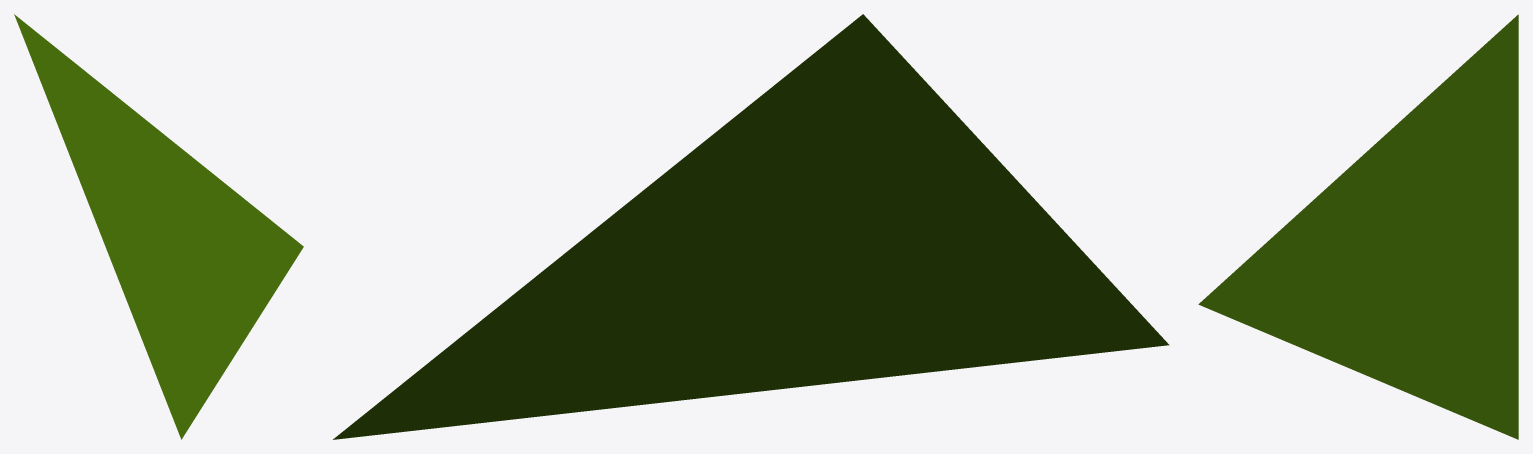
The model's file is hill-corner-0.glb.
The picture shows the model from 3 angles, left to right: view 1: azimuth 30°, elevation 25°; view 2: azimuth 150°, elevation 25°; view 3: azimuth 270°, elevation 25°; orthographic projection. The views are drawn at different scales.
Parts seen in each view (by area): view 1: mesh0; view 2: mesh0; view 3: mesh0.
Boxes of the visible parts, x1=… form: mesh0: x1=14, y1=14, x2=303, y2=439; mesh0: x1=333, y1=14, x2=1169, y2=439; mesh0: x1=1198, y1=14, x2=1518, y2=439.
Size of the model in its own units: 0.6 by 0.6 by 0.6.
